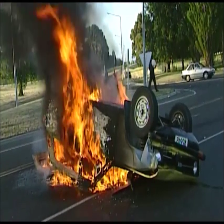fire_h: (36, 5, 111, 183), (91, 167, 130, 193), (47, 168, 77, 186), (115, 70, 129, 104)
fire_l: (42, 153, 53, 168)
